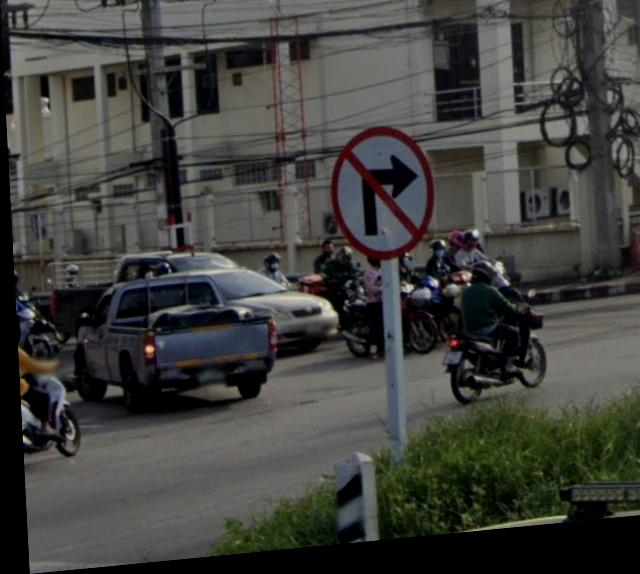not_turn_right: (321, 132, 438, 276)
